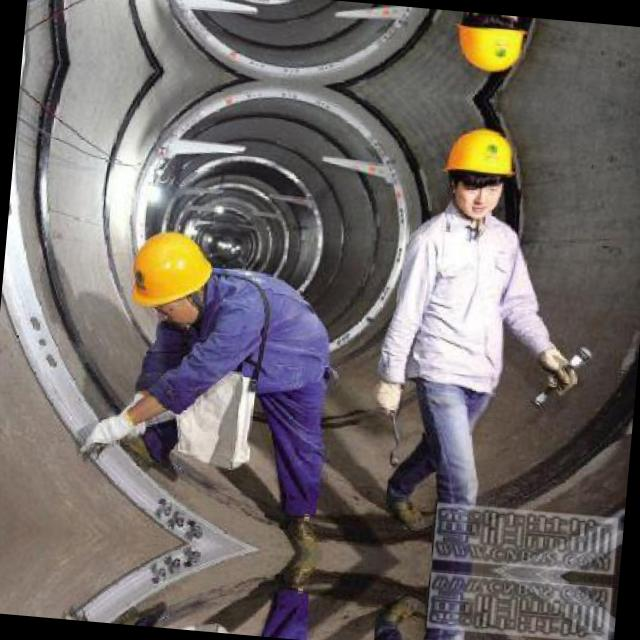helmet: (127, 218, 228, 329), (430, 114, 526, 226), (444, 11, 536, 84)
